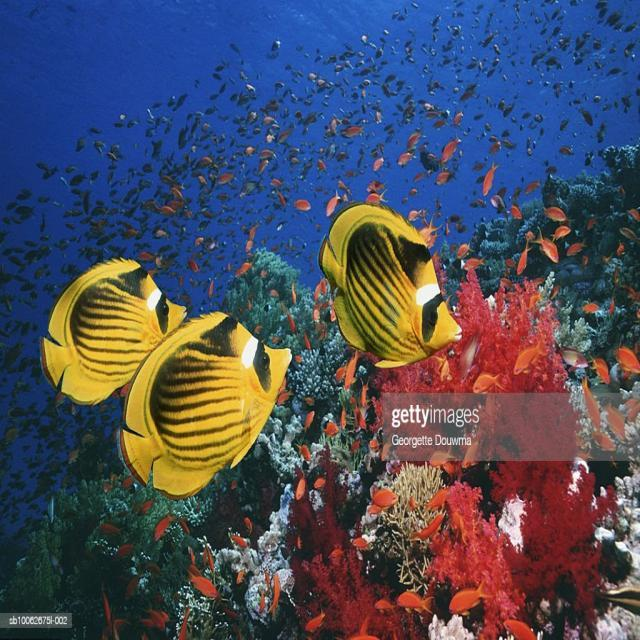ButterflyFish: (270, 194, 493, 380), (101, 322, 306, 484), (33, 234, 179, 400)
